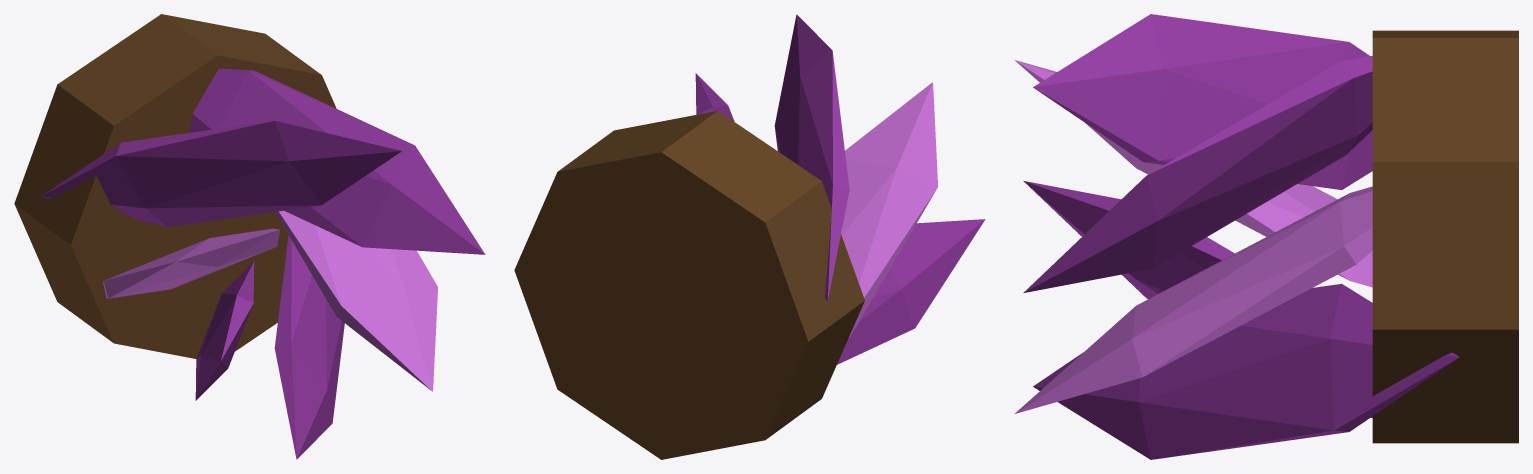
File: 2_sprouting.obj
3 views of the same model, side by side, from view 1: azimuth 30°, elevation 25°; view 2: azimuth 150°, elevation 25°; view 3: azimuth 270°, elevation 25° (orthographic). The views are drawn at different scales.
Parts seen in each view (by area): view 1: toadflax_2_sprouting; view 2: toadflax_2_sprouting; view 3: toadflax_2_sprouting.
Part boxes in pixels (left/top/right/bottom): toadflax_2_sprouting: left=14, top=14, right=485, bottom=459; toadflax_2_sprouting: left=514, top=14, right=985, bottom=459; toadflax_2_sprouting: left=1015, top=14, right=1518, bottom=459.
Size of the model in its own units: 0.12 by 0.1235 by 0.138.
